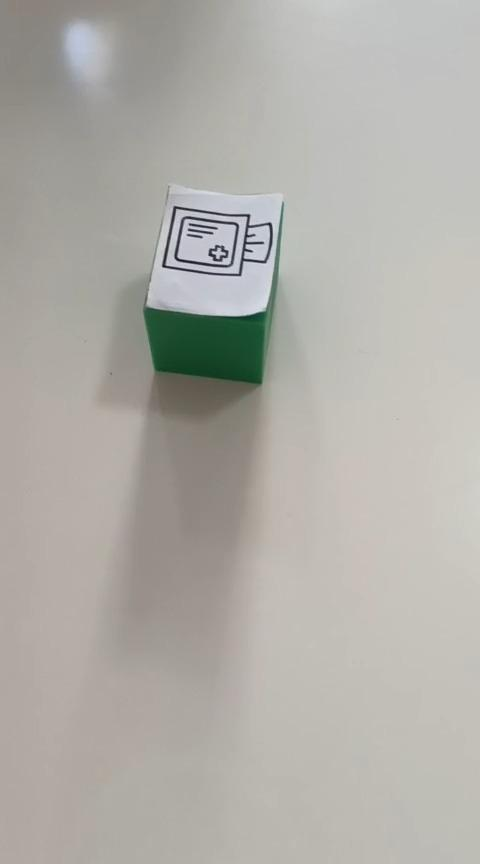Gauze: (142, 181, 284, 385)
